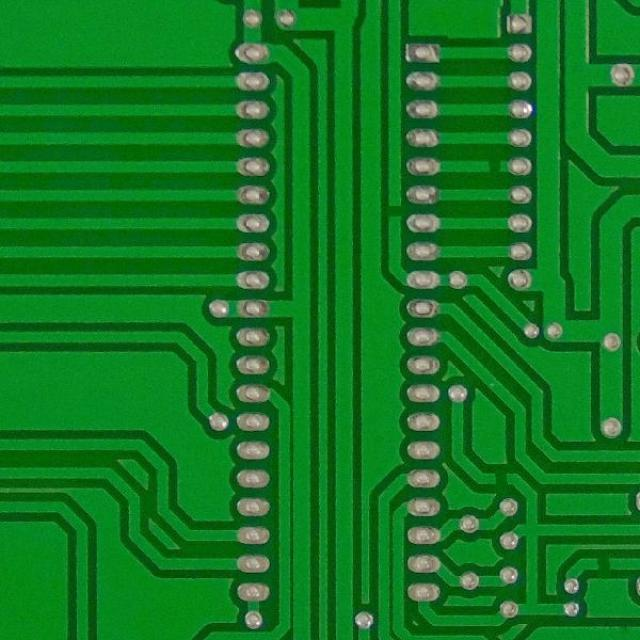open_circuit: (490, 467, 515, 490), (480, 159, 507, 176), (385, 198, 403, 223), (593, 554, 613, 576)
